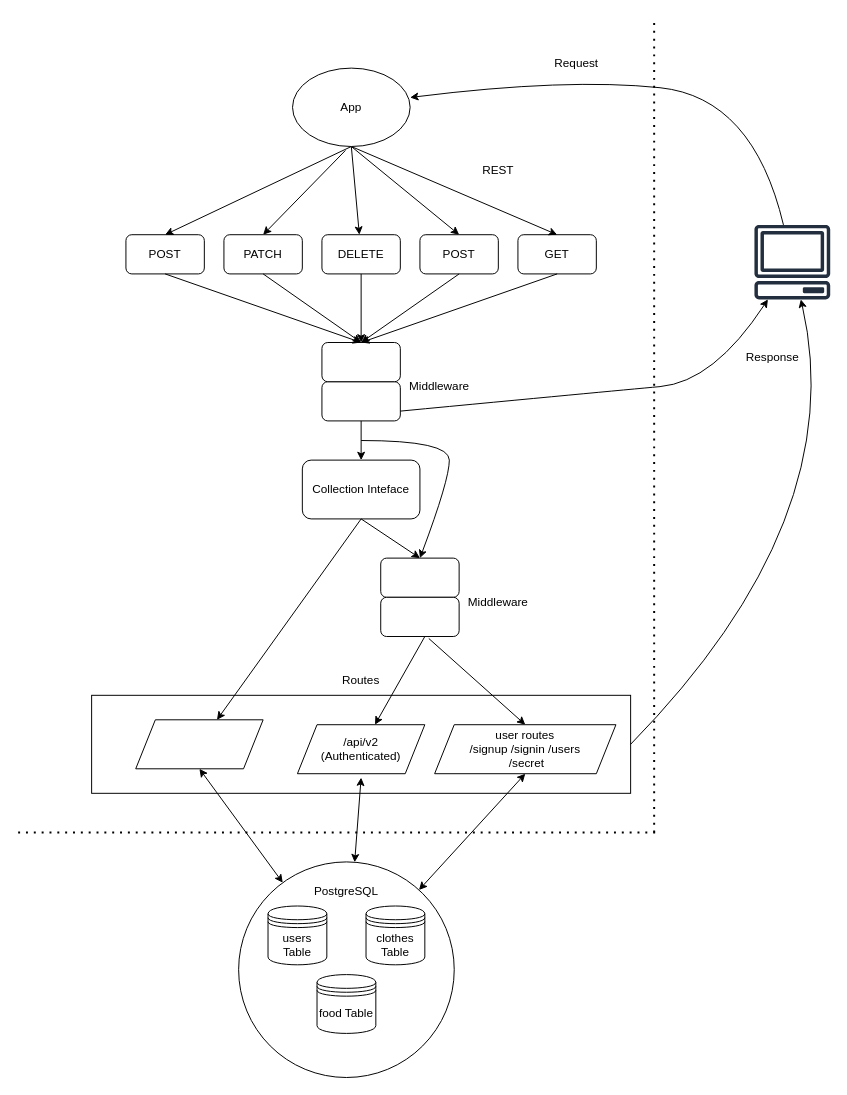
Image size: 847x1095. Some labels were removed from this diagram. Each missing label, with the box of its shape:
/api/v1: (135, 719, 263, 769)
basic: (380, 557, 459, 597)
bearer: (380, 596, 459, 637)
Client: (754, 224, 830, 299)
error-handler 404 500: (321, 381, 400, 421)
logger: (321, 342, 400, 382)
